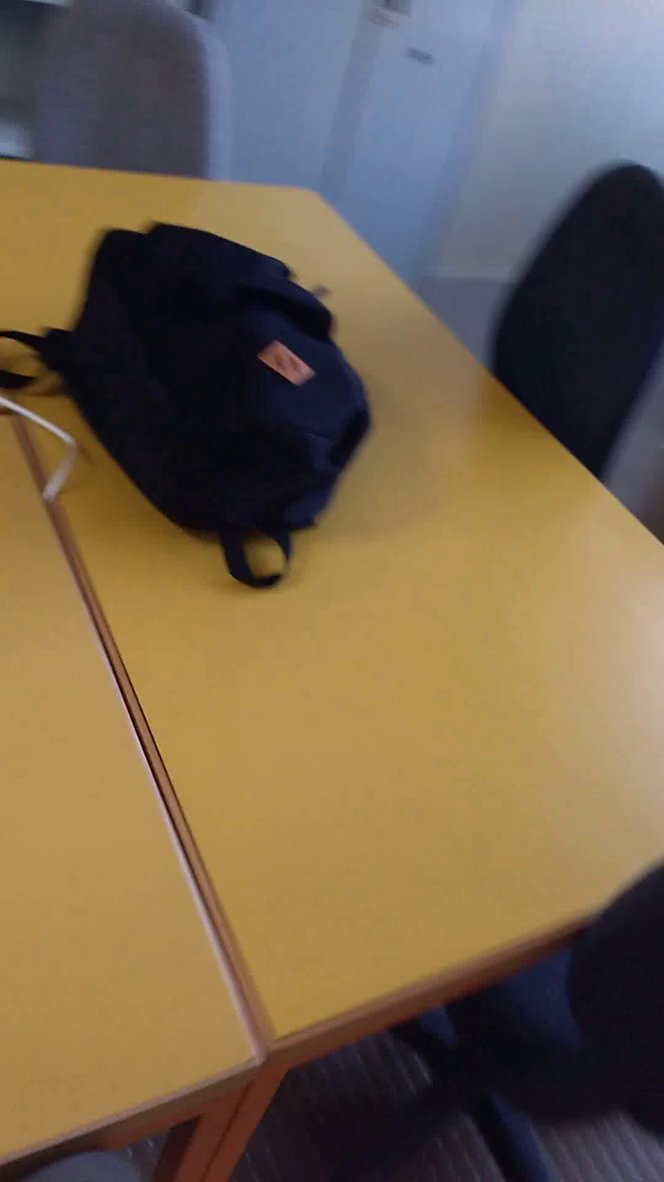bag: (1, 212, 380, 608)
chair: (463, 152, 664, 499), (20, 1, 238, 189)
